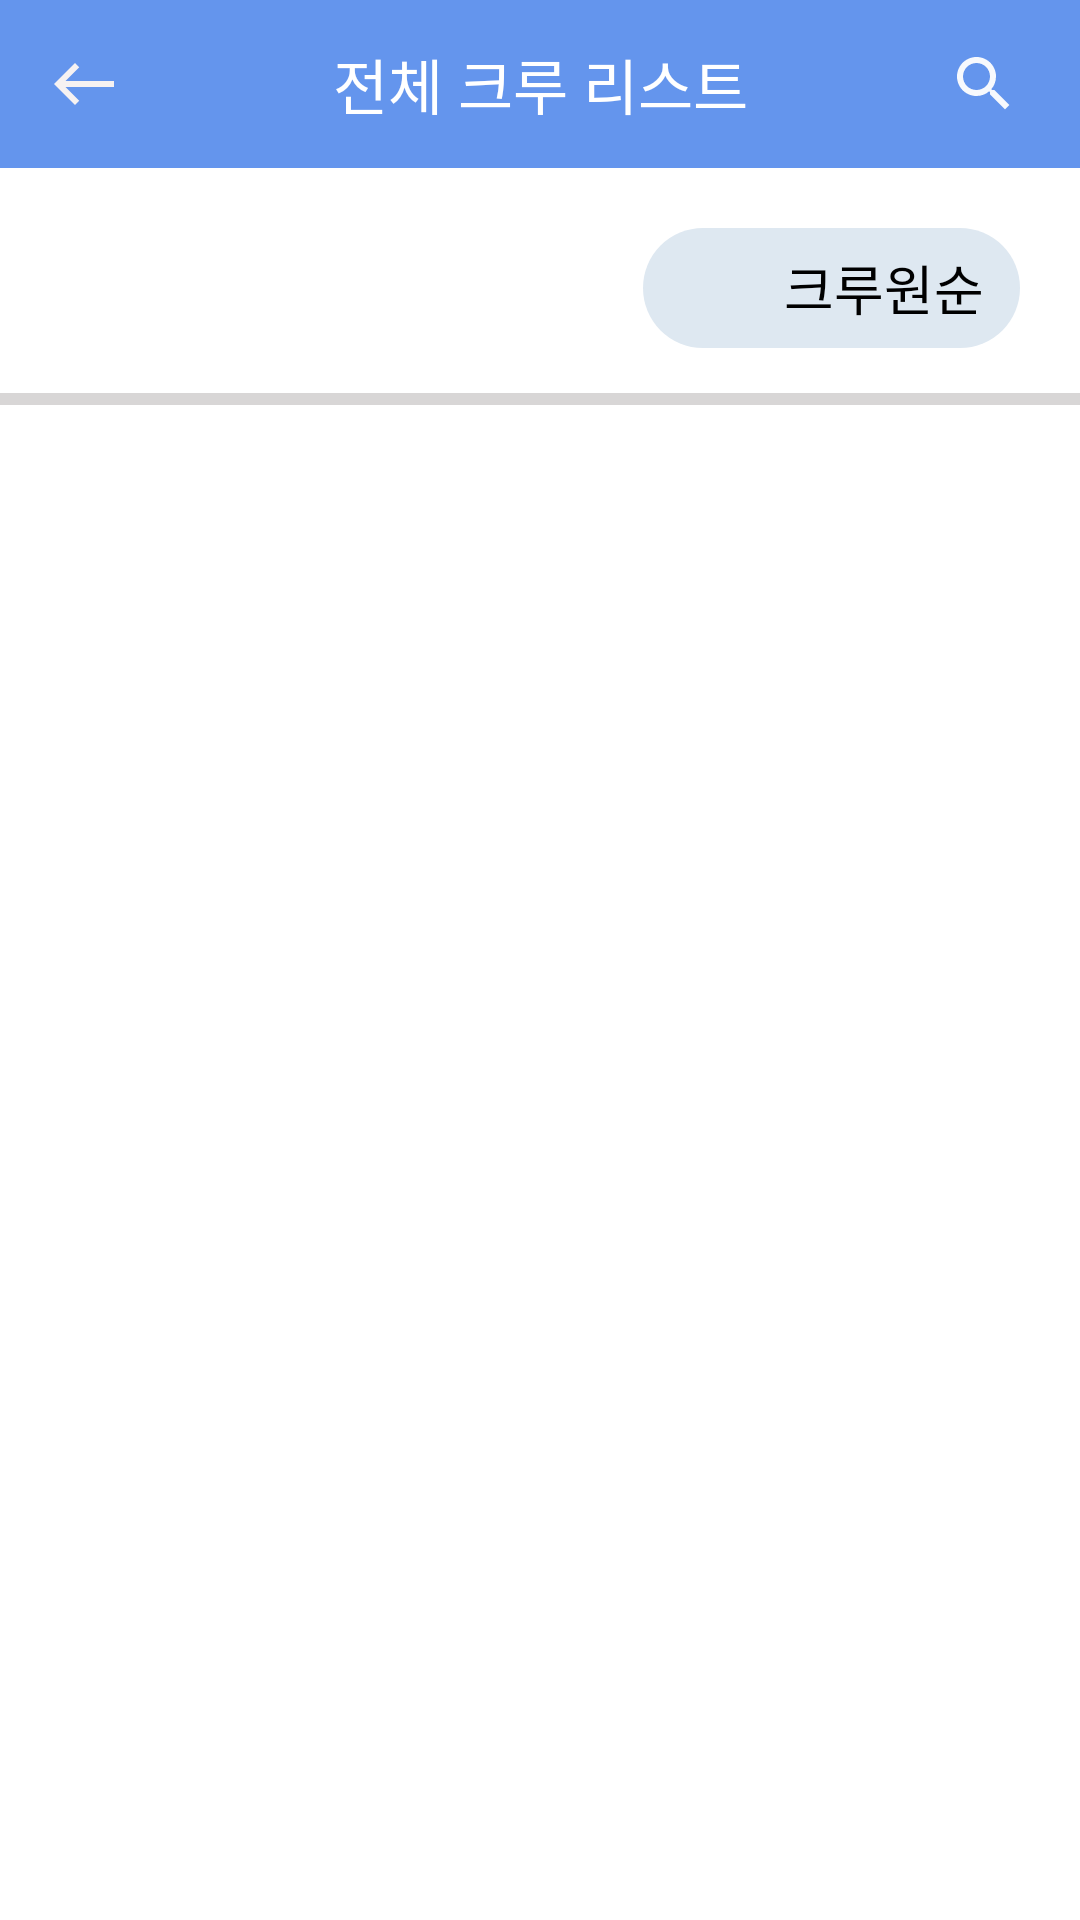

Icons on this 1080×1920 Android screen, each with its box as (x1, y1, x2, y2):
search: (957, 57, 1009, 109)
west: (54, 63, 114, 105)
